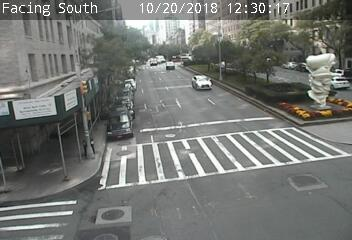car: (192, 74, 212, 91), (166, 61, 174, 69)
